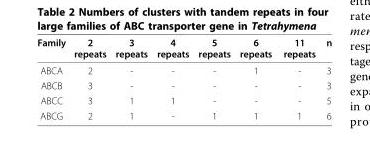table: (36, 36, 331, 120)
table column: (276, 36, 320, 120), (151, 36, 193, 120), (234, 36, 276, 120), (69, 36, 110, 120), (110, 36, 151, 120), (193, 36, 234, 120), (36, 36, 69, 120), (320, 36, 331, 120)
table column header: (36, 36, 331, 61)
table row: (36, 36, 331, 61), (36, 61, 331, 77), (36, 77, 331, 92), (36, 92, 331, 107), (36, 107, 331, 120)
